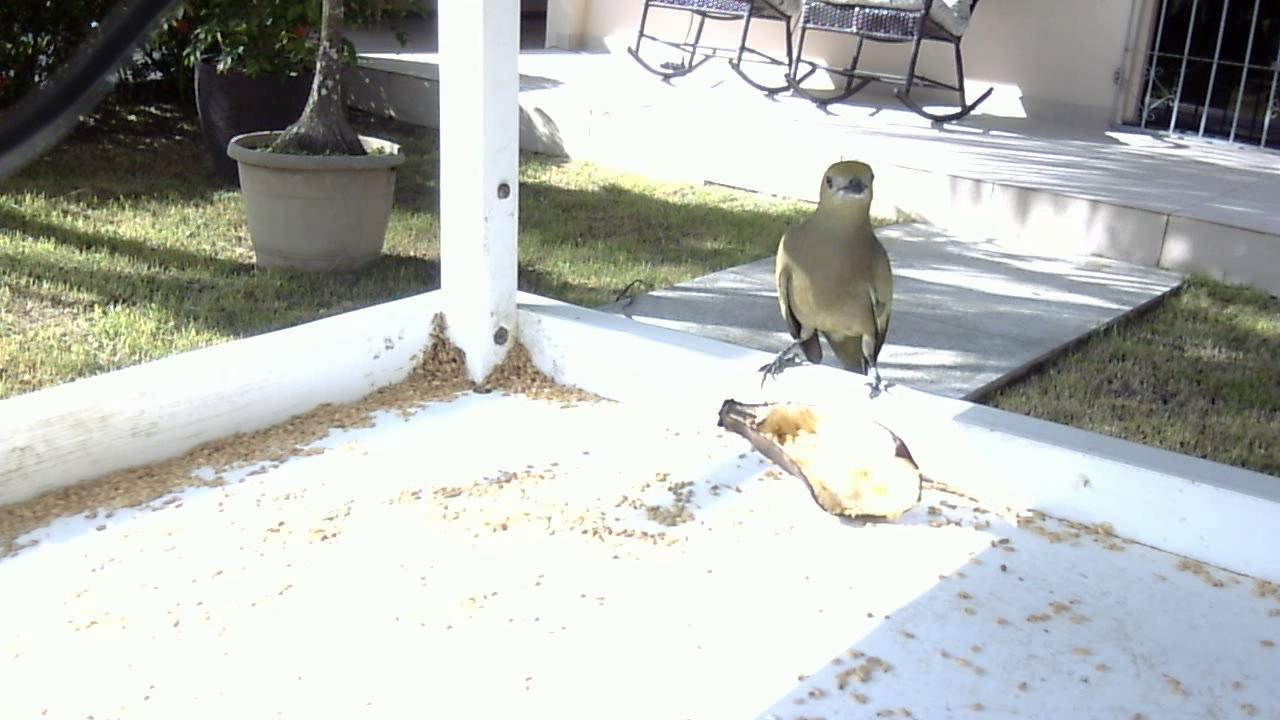sanhaco_do_coqueiro: (747, 149, 901, 398)
